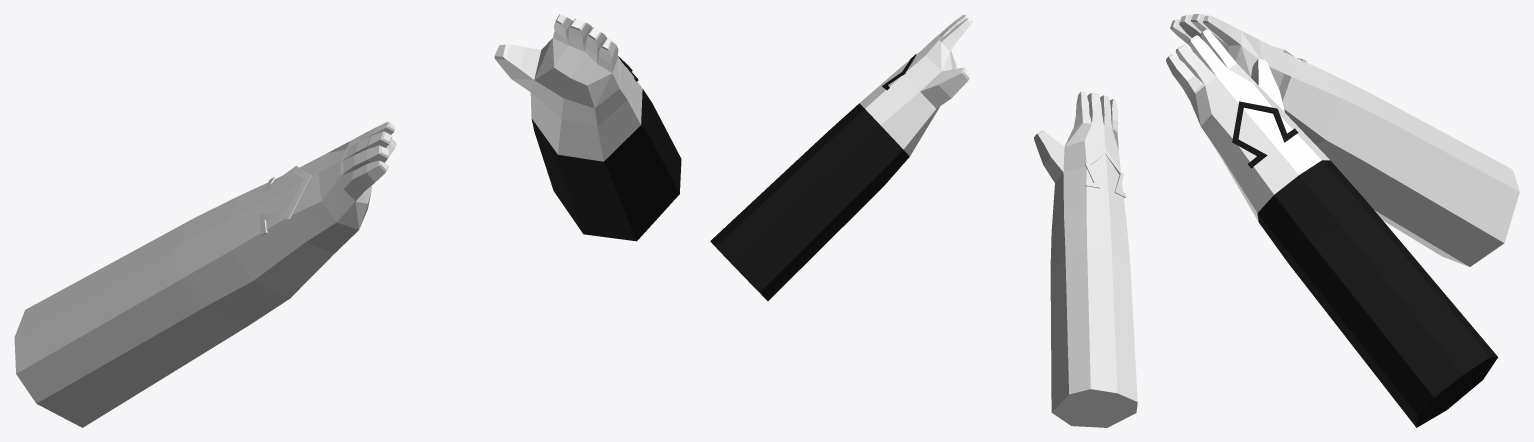
Rendered from ArmPlaceholder.fbx.
The picture shows the model from 3 angles, left to right: view 1: azimuth 30°, elevation 25°; view 2: azimuth 150°, elevation 25°; view 3: azimuth 270°, elevation 25°; orthographic projection. The views are drawn at different scales.
Parts seen in each view (by area): view 1: Line001_1, Line001; view 2: Line001_1, Line001; view 3: Line001, Line001_1.
Part boxes in pixels (x1=…): Line001_1: x1=14, y1=121, x2=396, y2=427; Line001: x1=494, y1=14, x2=681, y2=241; Line001_1: x1=1034, y1=91, x2=1137, y2=427; Line001: x1=710, y1=14, x2=972, y2=300; Line001: x1=1166, y1=29, x2=1498, y2=427; Line001_1: x1=1170, y1=14, x2=1519, y2=266.
Size of the model in its own units: 116 by 73.34 by 63.24.
